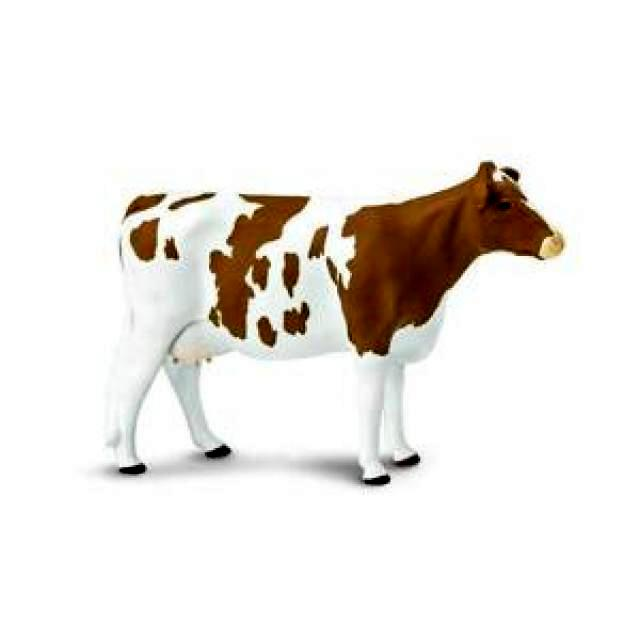COW: (112, 162, 562, 481)
